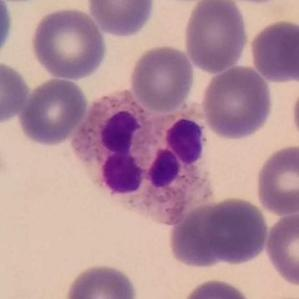Neutrophil: (62, 84, 225, 234)
RBC: (28, 5, 108, 81), (200, 64, 275, 142), (17, 76, 90, 147), (166, 199, 237, 271), (182, 0, 250, 74), (201, 195, 270, 266), (127, 43, 196, 113), (247, 17, 299, 84), (253, 142, 299, 217), (61, 261, 140, 299), (263, 209, 299, 289), (85, 0, 156, 39), (0, 60, 31, 125), (179, 276, 254, 299), (0, 0, 14, 60)
